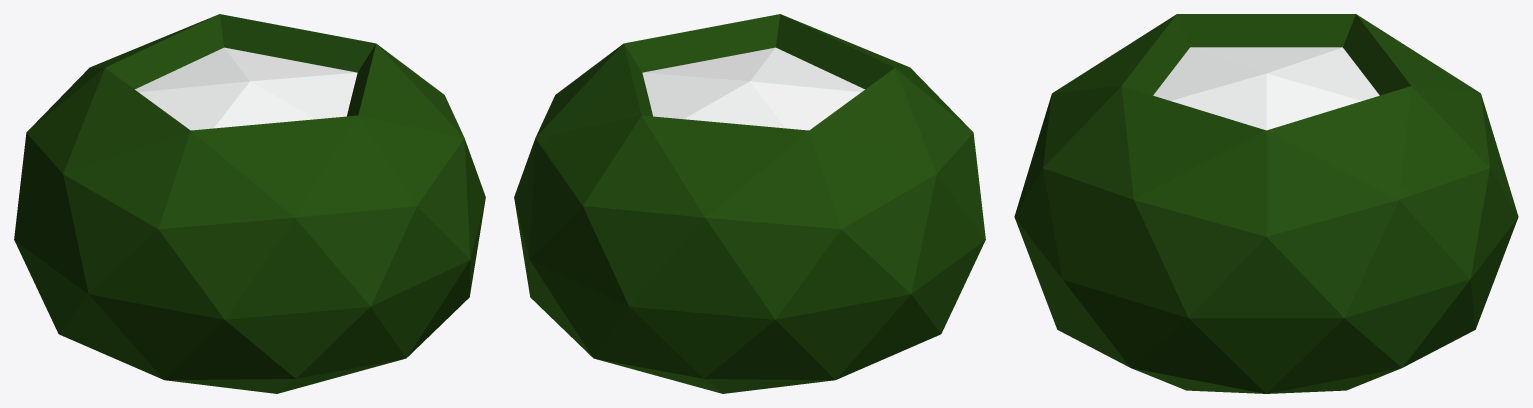
Rendered from Bush_Blumenkohl_01.fbx.
3 renders of one model, left to right at view 1: azimuth 30°, elevation 25°; view 2: azimuth 150°, elevation 25°; view 3: azimuth 270°, elevation 25°, orthographic. The views are drawn at different scales.
Parts seen in each view (by area): view 1: Icosphere; view 2: Icosphere; view 3: Icosphere.
Part boxes in pixels (x1,y1,x2,y2): Icosphere: [14, 14, 485, 393]; Icosphere: [514, 14, 985, 393]; Icosphere: [1014, 14, 1518, 393].
Size of the model in its own units: 170 by 114 by 178.
